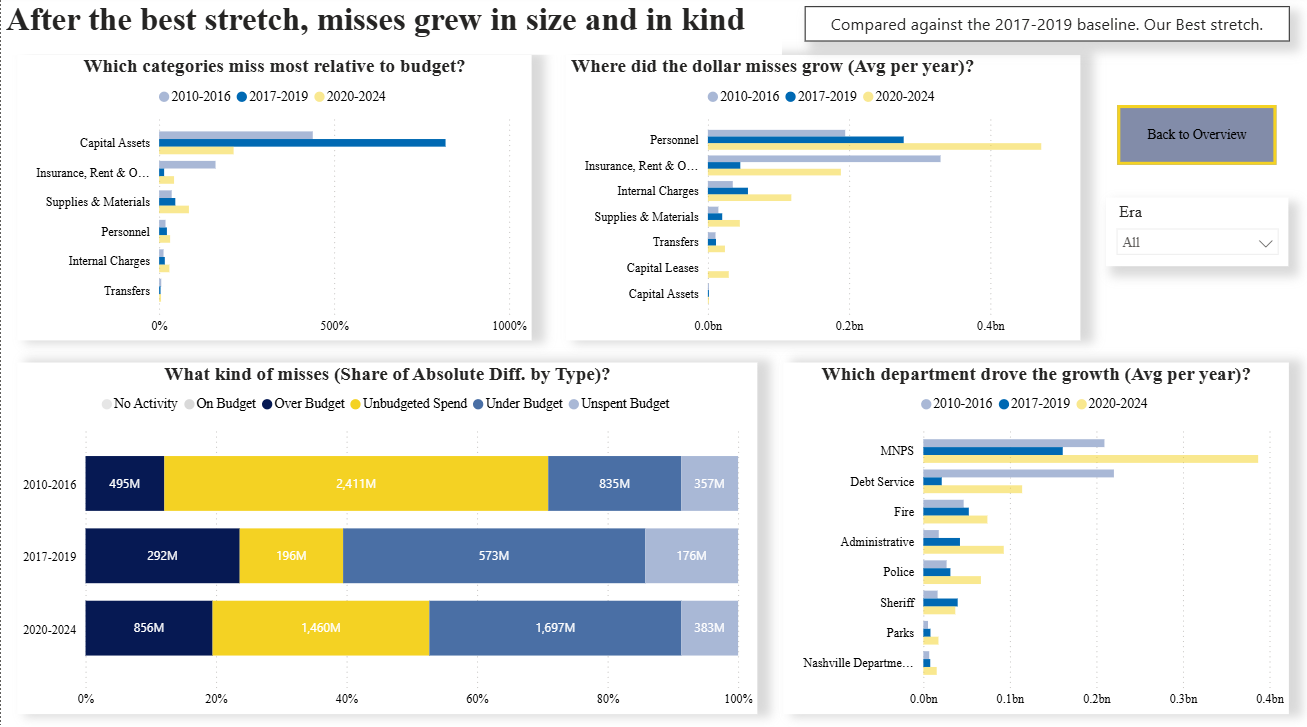

This screenshot's page, from the dashboard's own definition file:
{"tool":"powerbi","page":{"name":"What Changed?","canvas":[1280,720],"ordinal":2},"visuals":[{"type":"clusteredBarChart","title":"Which categories miss most relative to budget?","fields":{"Category":["Dim Accounts.Accnt Category"],"Series":["Dim Year.Era"],"Y":["Fact Budget vs Actual.Absolute Difference %"]},"box":[16.1,58.5,503.4,279.5],"z":0},{"type":"clusteredBarChart","title":"Where did the dollar misses grow (Avg per year)?","fields":{"Category":["Dim Accounts.Accnt Category"],"Series":["Dim Year.Era"],"Y":["Fact Budget vs Actual.Avg Absolute Difference per Year"]},"box":[553.2,58.5,503.4,279.5],"z":1000},{"type":"hundredPercentStackedBarChart","title":"What kind of misses (Share of Absolute Diff. by Type)?","fields":{"Category":["Dim Year.Era"],"Series":["Fact Budget vs Actual.Difference Status"],"Y":["Fact Budget vs Actual.Absolute Difference"]},"box":[16.1,360,724.4,343.9],"z":2000},{"type":"textbox","box":[785.7,11.4,474.3,34.3],"z":3000},{"type":"slicer","fields":{"Values":["Dim Year.Era"]},"box":[1081.4,198.6,178.5,67.3],"z":4000},{"type":"clusteredBarChart","title":"Which department drove the growth (Avg per year)?","fields":{"Category":["Dim Department.Department_Description"],"Series":["Dim Year.Era"],"Y":["Fact Budget vs Actual.Avg Absolute Difference per Year"]},"box":[765.4,360,494.6,343.9],"z":5000},{"type":"textbox","box":[0,0,763.9,58.5],"z":6000},{"type":"actionButton","box":[1091.4,107.1,155.7,58.6],"z":6001}]}

Visuals, with their boxes in screenshot pixels (x1, y1, x2, y2), scaled from the page's 1280x720 canvas onto the 1307x727 screenshot:
"Which categories miss most relative to budget?" clusteredBarChart: (16, 59, 530, 341)
"Where did the dollar misses grow (Avg per year)?" clusteredBarChart: (565, 59, 1079, 341)
"What kind of misses (Share of Absolute Diff. by Type)?" hundredPercentStackedBarChart: (16, 364, 756, 711)
textbox: (802, 12, 1287, 46)
slicer - Dim Year.Era: (1104, 201, 1286, 268)
"Which department drove the growth (Avg per year)?" clusteredBarChart: (782, 364, 1287, 711)
textbox: (0, 0, 780, 59)
actionButton: (1114, 108, 1273, 167)
